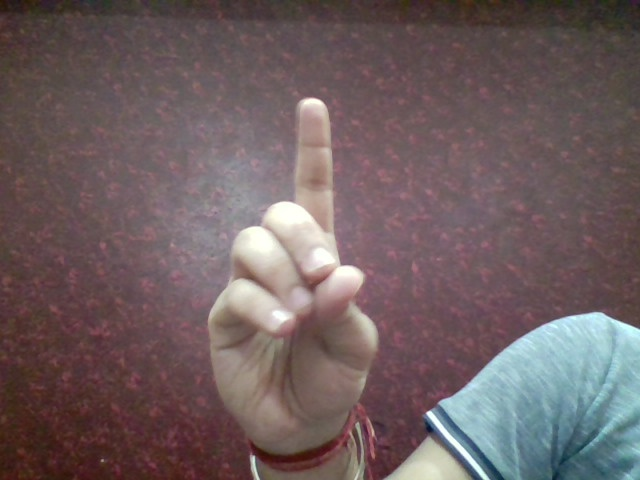d: (189, 88, 389, 441)
